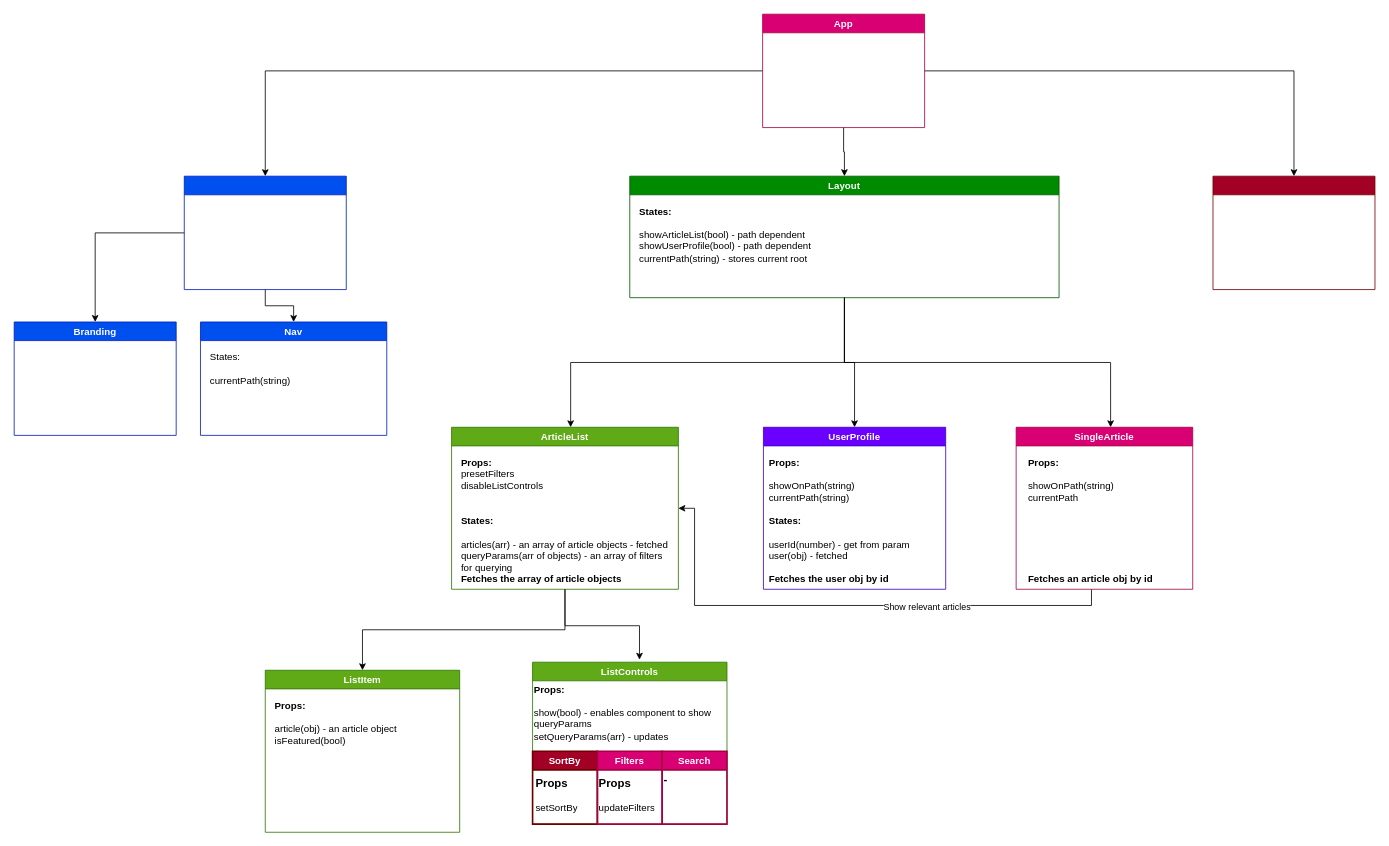
Some shapes in this 1389 by 846 pixel diagram are drawn without their labels. Here are the shapes that lost their labels. From the top down, the centre of each, then its label:
the point at 264,232: Header
the point at 1293,232: Footer
